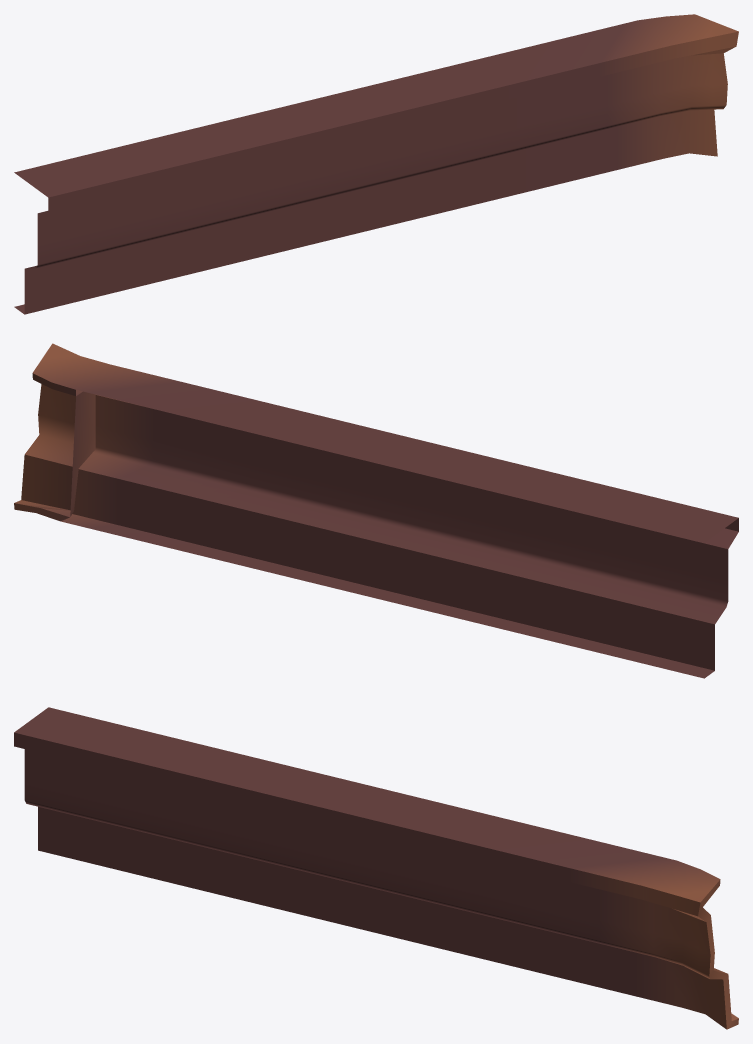
The model's file is DBK_Trim_B_End.fbx.
The picture shows the model from 3 angles, top to bottom: view 1: azimuth 30°, elevation 25°; view 2: azimuth 150°, elevation 25°; view 3: azimuth 330°, elevation 25°; orthographic projection.
Parts seen in each view (by area): view 1: DBK_Trim_B_End; view 2: DBK_Trim_B_End; view 3: DBK_Trim_B_End.
Boxes of the visible parts, x1=… form: DBK_Trim_B_End: x1=14, y1=14, x2=738, y2=314; DBK_Trim_B_End: x1=14, y1=343, x2=738, y2=678; DBK_Trim_B_End: x1=14, y1=707, x2=738, y2=1029.
Size of the model in its own units: 141 by 27.87 by 13.81.
